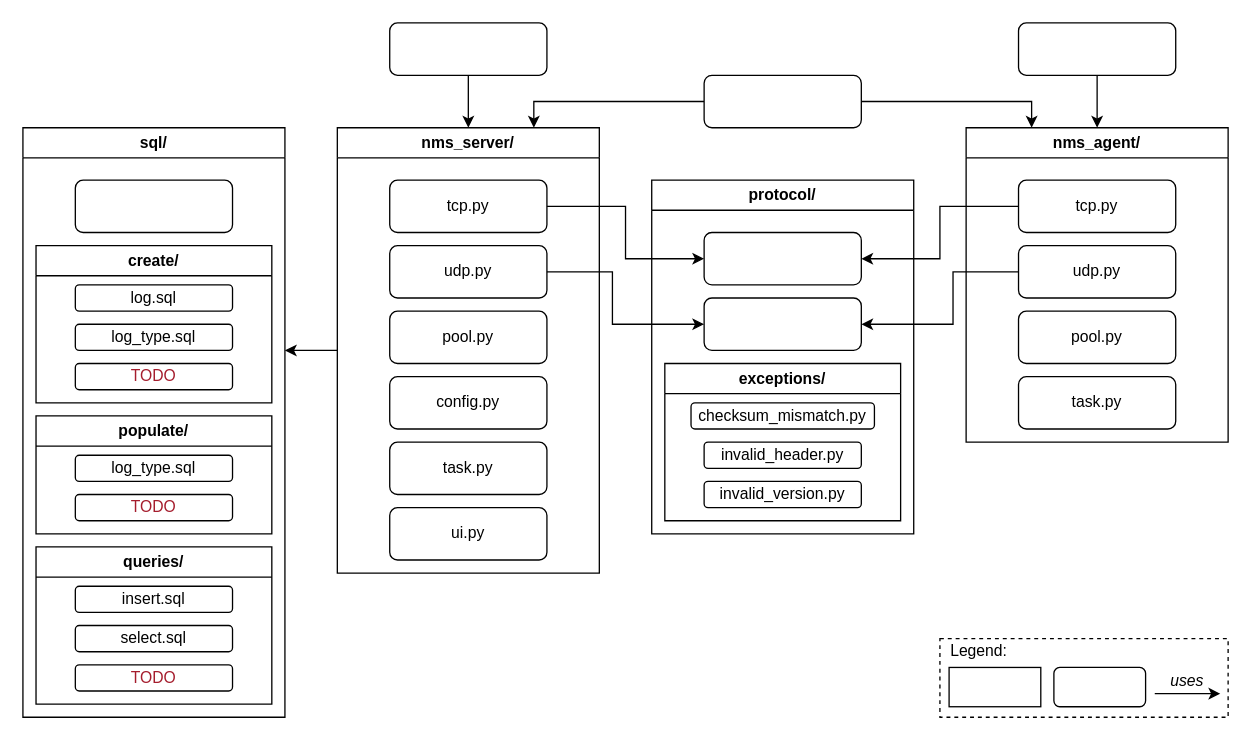
Some shapes in this 1254 by 740 pixel diagram are drawn without their labels. The shapes that lost their labels are listed below. From the top down, each one's centre as x and y in pixels, then its label:
At pixel 467 48: "nms_server.py".
At pixel 1096 48: "nms_agent.py".
At pixel 782 101: "constants.py".
At pixel 153 206: "database.py".
At pixel 782 258: "alert_flow.py".
At pixel 782 323: "net_task.py".
At pixel 994 686: "executable".
At pixel 1099 686: "module".
